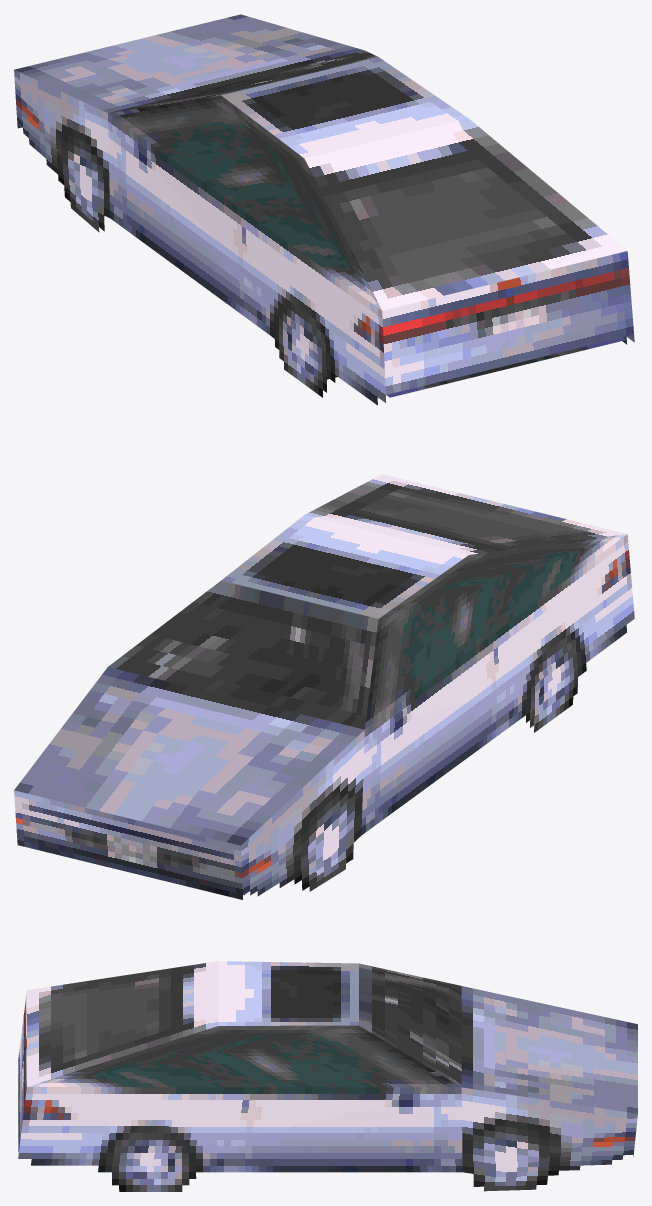
The model's file is car-probe-plt1.glb.
3 renders of one model, top to bottom at view 1: azimuth 30°, elevation 25°; view 2: azimuth 150°, elevation 25°; view 3: azimuth 270°, elevation 25°, orthographic. The views are drawn at different scales.
Visible parts, largest first — view 1: car-probe-plt1; view 2: car-probe-plt1; view 3: car-probe-plt1.
Part boxes in pixels (x1,y1,x2,y2): car-probe-plt1: [14, 14, 634, 405]; car-probe-plt1: [14, 474, 634, 899]; car-probe-plt1: [18, 961, 637, 1191].
Size of the model in its own units: 1.73 by 1.19 by 4.51.
13 materials, 13 textured.
